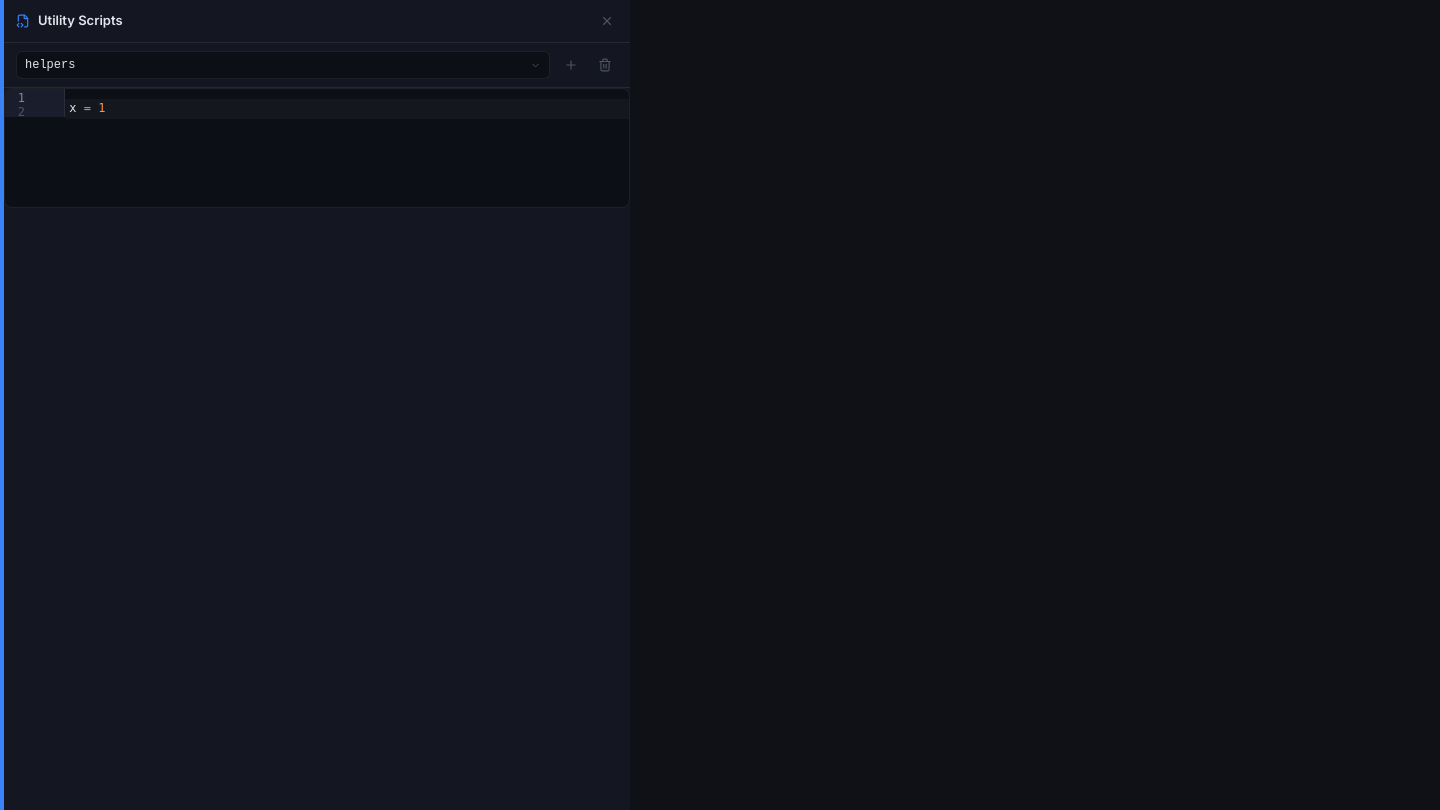
Scenario: UtilityPanel dropdown close-on-outside-click › closes dropdown when clicking outside
Expected: the text "helpers" is shown, [25,58,75,72]
// Open the dropdown
Click the button "helpers" at (50, 65), box [16,51,550,79]
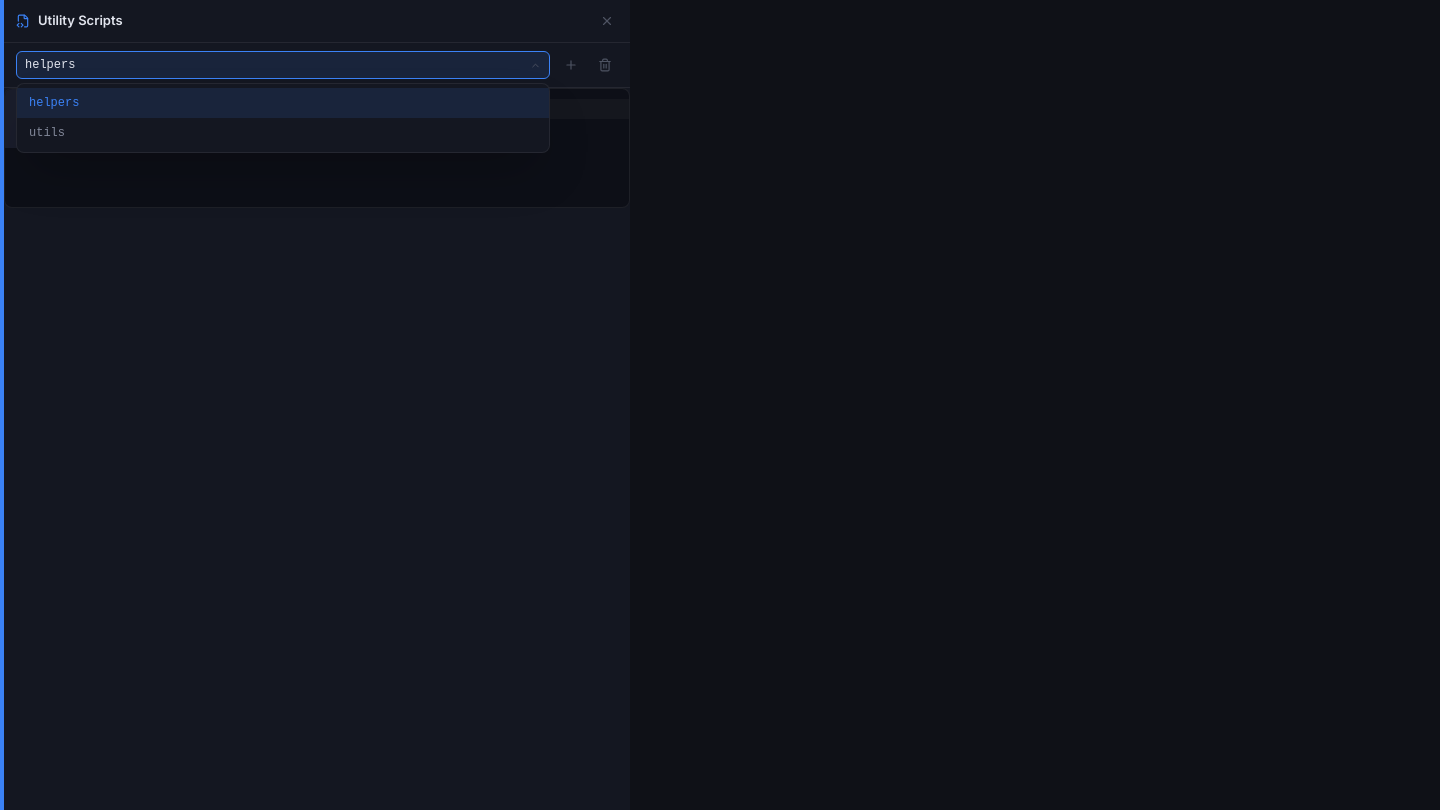
Result: the button "utils" is shown at [17,118,549,148]
// Click outside the dropdown (on the document body)
Press the mouse on the element showing "Utility Scripts helpers helpers utils 1 2 x = 1" at (720, 405), box [0,0,1439,809]
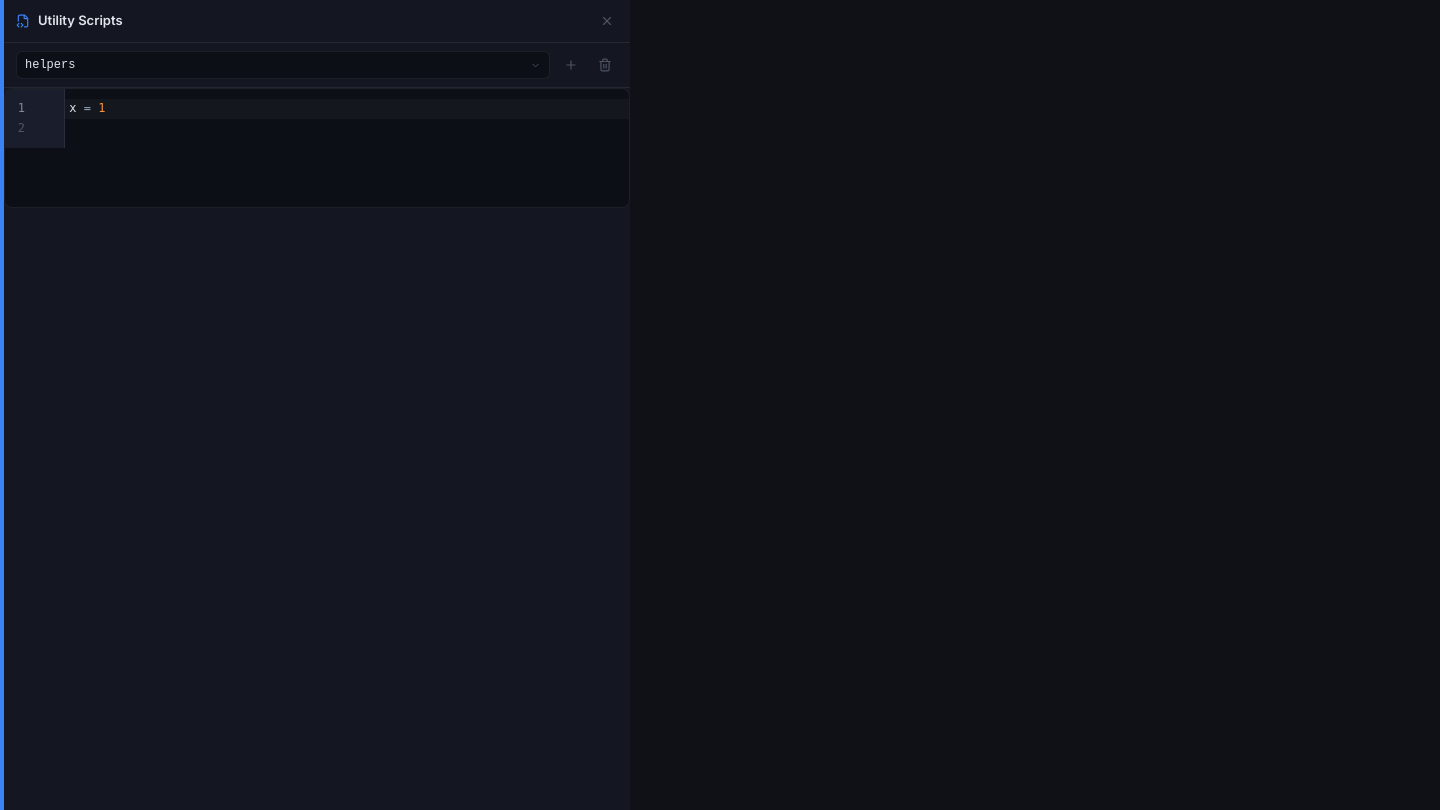
Result: the button "utils" is gone
